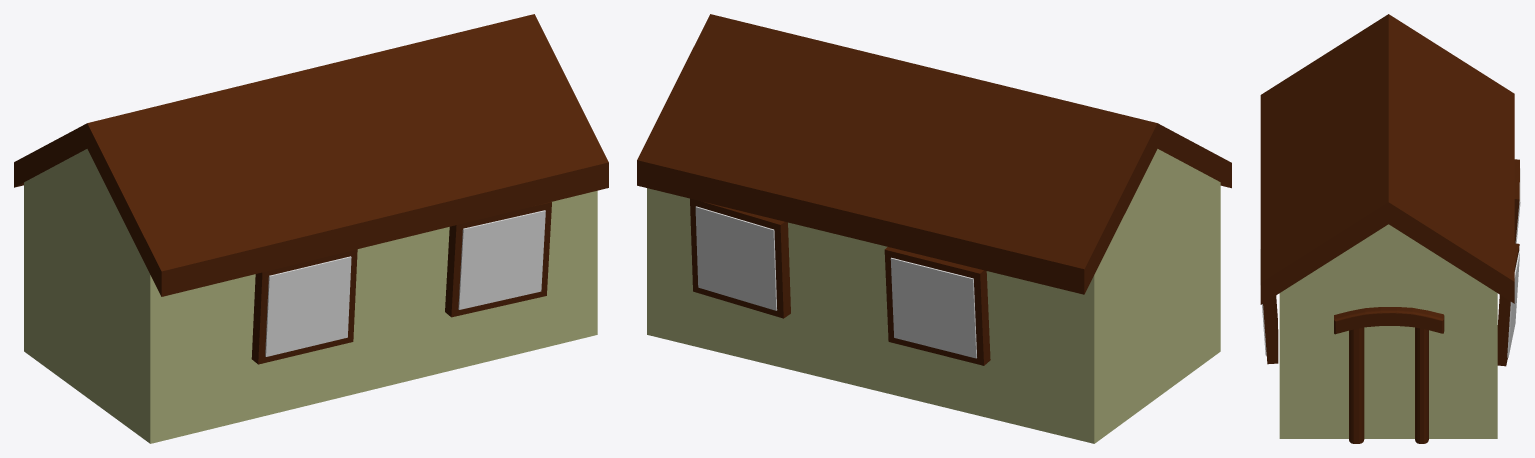
The model's file is houseA.glb.
3 views of the same model, side by side, from view 1: azimuth 30°, elevation 25°; view 2: azimuth 150°, elevation 25°; view 3: azimuth 270°, elevation 25° (orthographic). The views are drawn at different scales.
Parts seen in each view (by area): view 1: Cube; view 2: Cube; view 3: Cube.
Boxes of the visible parts, x1,y1,x2,y2 form: Cube: (14, 14, 608, 443); Cube: (637, 14, 1231, 443); Cube: (1260, 14, 1520, 443).
Size of the model in its own units: 4.22 by 2.4 by 2.39.
